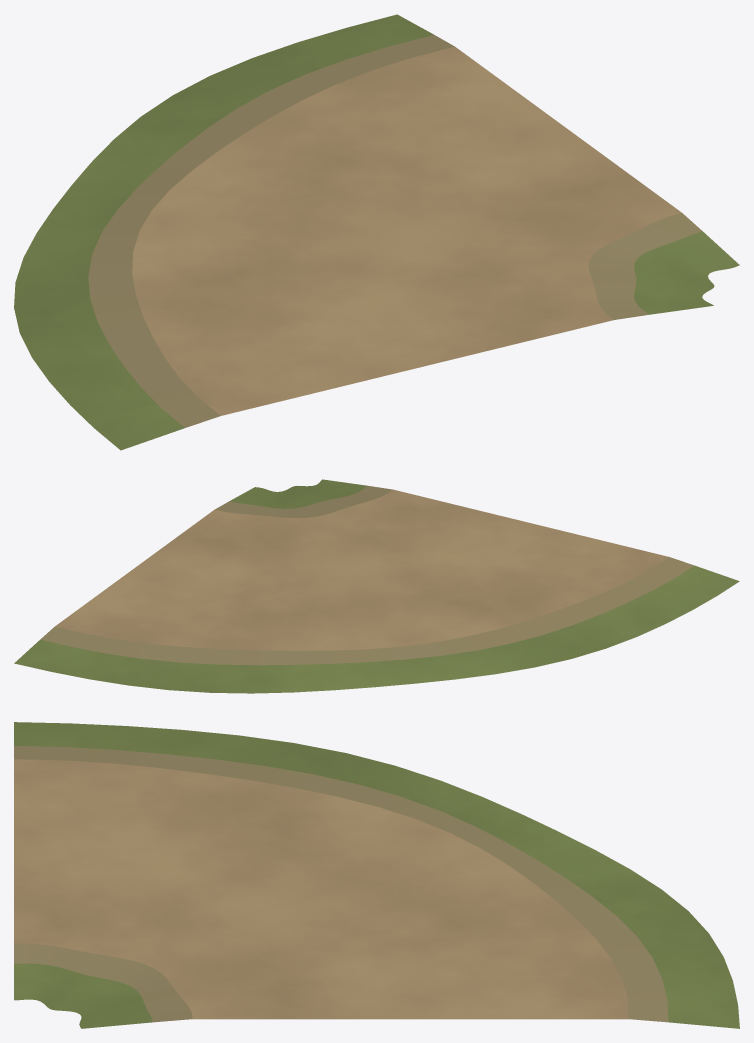
The model's file is path-turn-2m.glb.
3 views of the same model, one above another, from view 1: azimuth 30°, elevation 25°; view 2: azimuth 150°, elevation 25°; view 3: azimuth 270°, elevation 25° (orthographic). The views are drawn at different scales.
Visible parts, largest first — view 1: path-turn-2m / N12 / ochre walking earth, path-turn-2m / N13 / meadow soil, path-turn-2m / N19 / dusty path edge; view 2: path-turn-2m / N12 / ochre walking earth, path-turn-2m / N13 / meadow soil, path-turn-2m / N19 / dusty path edge; view 3: path-turn-2m / N12 / ochre walking earth, path-turn-2m / N13 / meadow soil, path-turn-2m / N19 / dusty path edge.
Part boxes in pixels (x1,y1,x2,y2): path-turn-2m / N12 / ochre walking earth: (132, 46, 681, 415); path-turn-2m / N13 / meadow soil: (14, 14, 739, 450); path-turn-2m / N19 / dusty path edge: (88, 35, 702, 427); path-turn-2m / N12 / ochre walking earth: (55, 489, 668, 650); path-turn-2m / N13 / meadow soil: (14, 479, 739, 693); path-turn-2m / N19 / dusty path edge: (40, 486, 694, 665); path-turn-2m / N12 / ochre walking earth: (14, 759, 628, 1019); path-turn-2m / N13 / meadow soil: (14, 722, 739, 1028); path-turn-2m / N19 / dusty path edge: (14, 745, 668, 1022).
Bounding box in the file's own units: 1.83 × 0.027 × 1.83.
3 materials, 2 textured.
